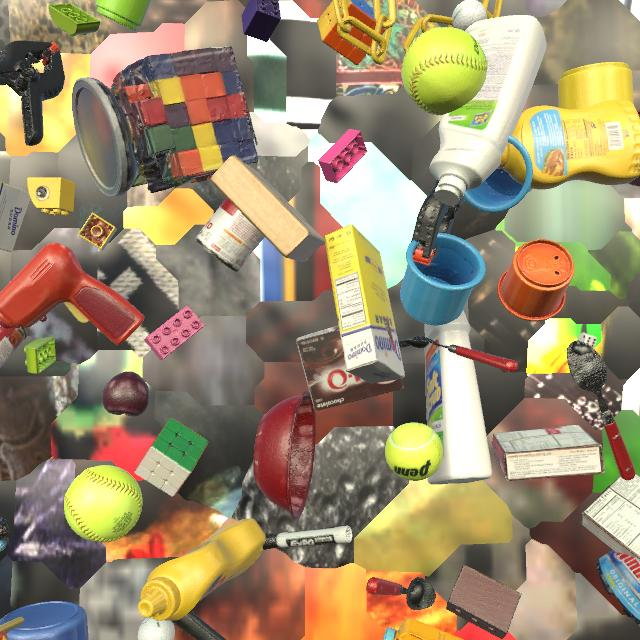ycb_004_sugar_box: (324, 224, 405, 383), (0, 181, 31, 252)
ycb_005_tomato_soup_can: (195, 198, 284, 272), (0, 325, 27, 368)
ycb_006_mustard_bottle: (138, 518, 266, 621), (497, 100, 640, 190)
ycb_008_pudding_box: (296, 317, 404, 412), (492, 425, 605, 481), (581, 474, 640, 559)
ycb_018_plum: (102, 371, 150, 417)
